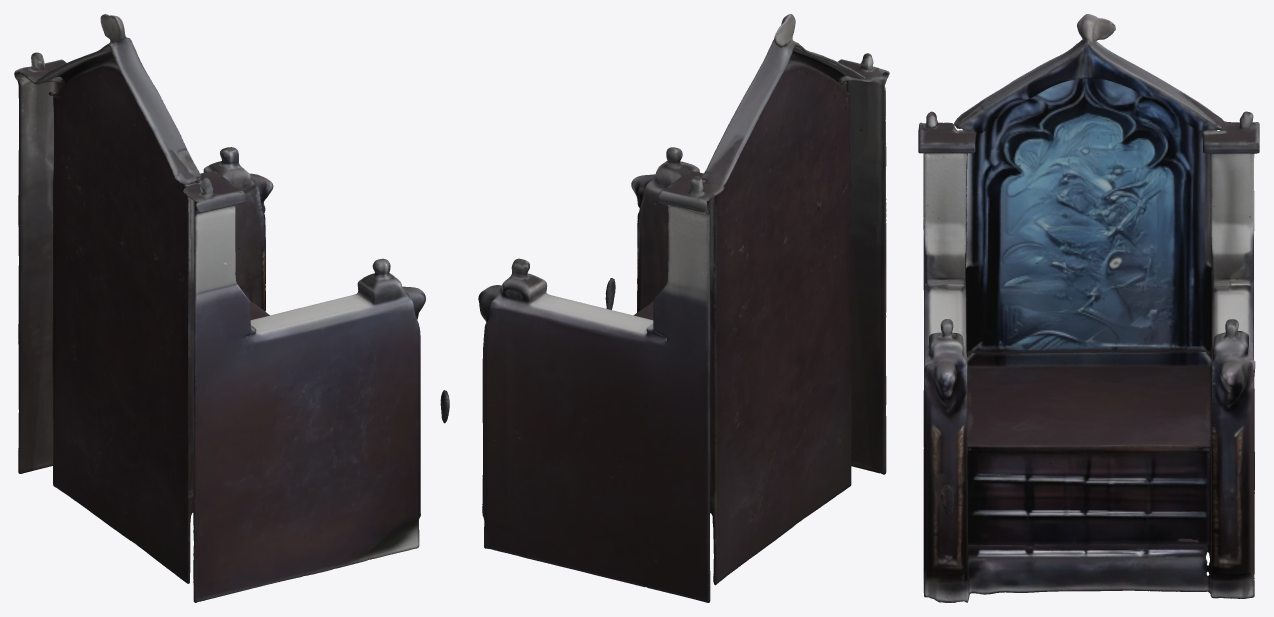
Rendered from throne-meshy-2-compressed.glb.
3 views of the same model, side by side, from view 1: azimuth 30°, elevation 25°; view 2: azimuth 150°, elevation 25°; view 3: azimuth 270°, elevation 25° (orthographic). The views are drawn at different scales.
Bounding box in the file's own units: 1.07 × 2.02 × 1.27.
Materials: 1 (1 with a texture image).
